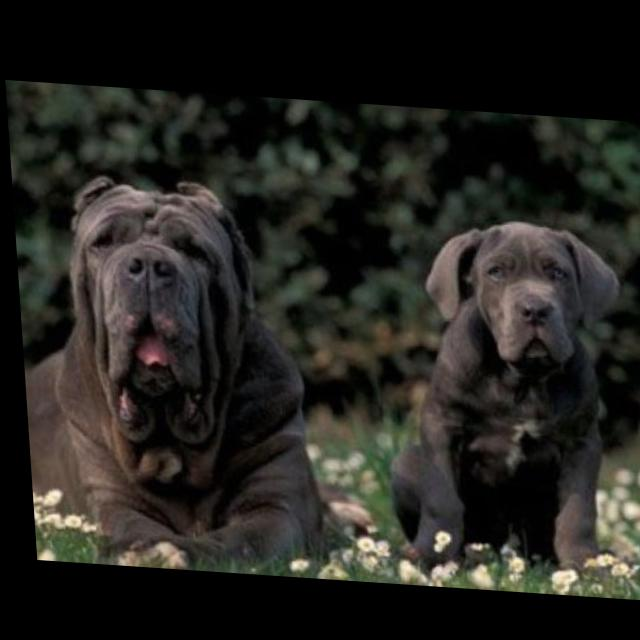mastino_napoletano: (11, 168, 371, 578), (370, 205, 634, 575)
